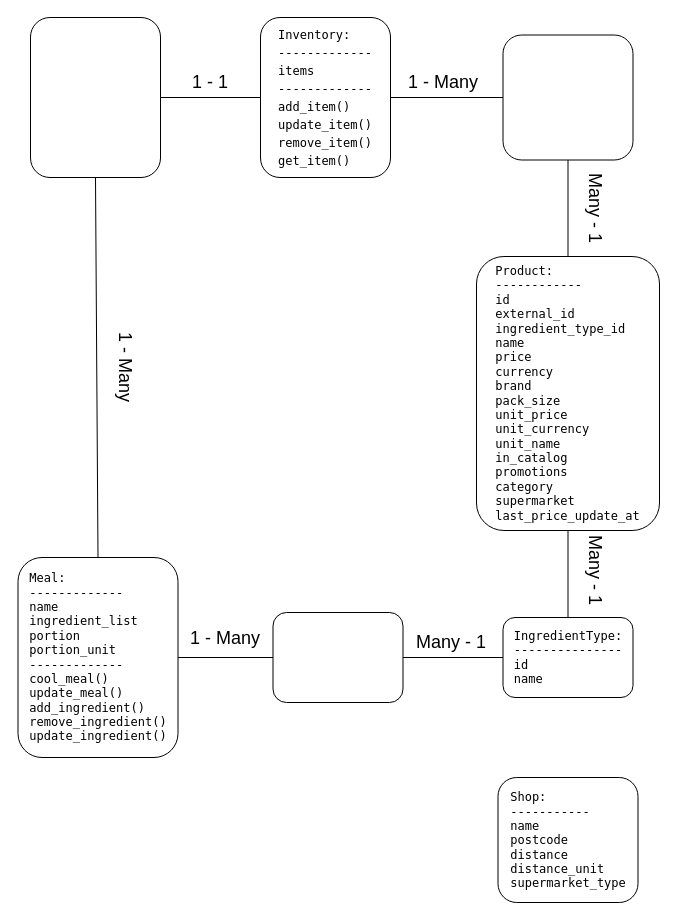
The diagram is 677 pixels wide and 920 high, and some of its shapes have lost their labels. Each missing label, with the box of its shape:
Ingredient: ------------ ingredient_type quantity quantity_unit: (272, 612, 403, 702)
InventoryItem: -------------- id product quantity quantity_unit: (502, 34, 633, 160)
User: ------------- id username password_hash postcode inventory meals: (30, 16, 160, 178)
